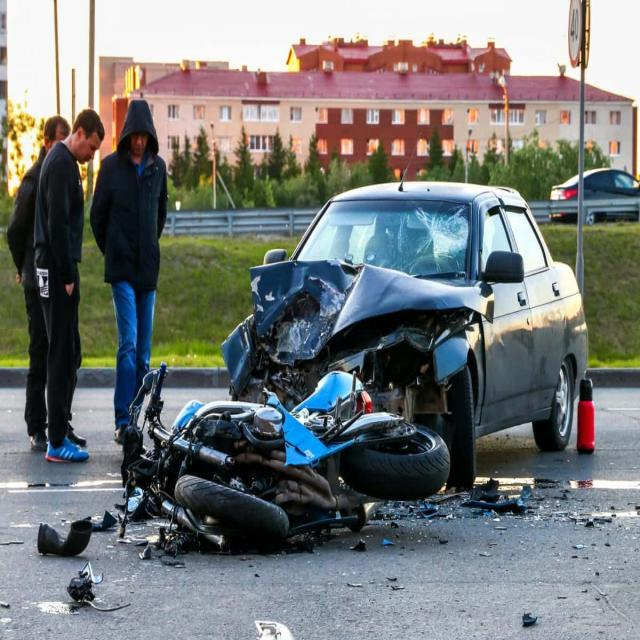accident: (221, 182, 588, 487), (121, 364, 450, 543)
